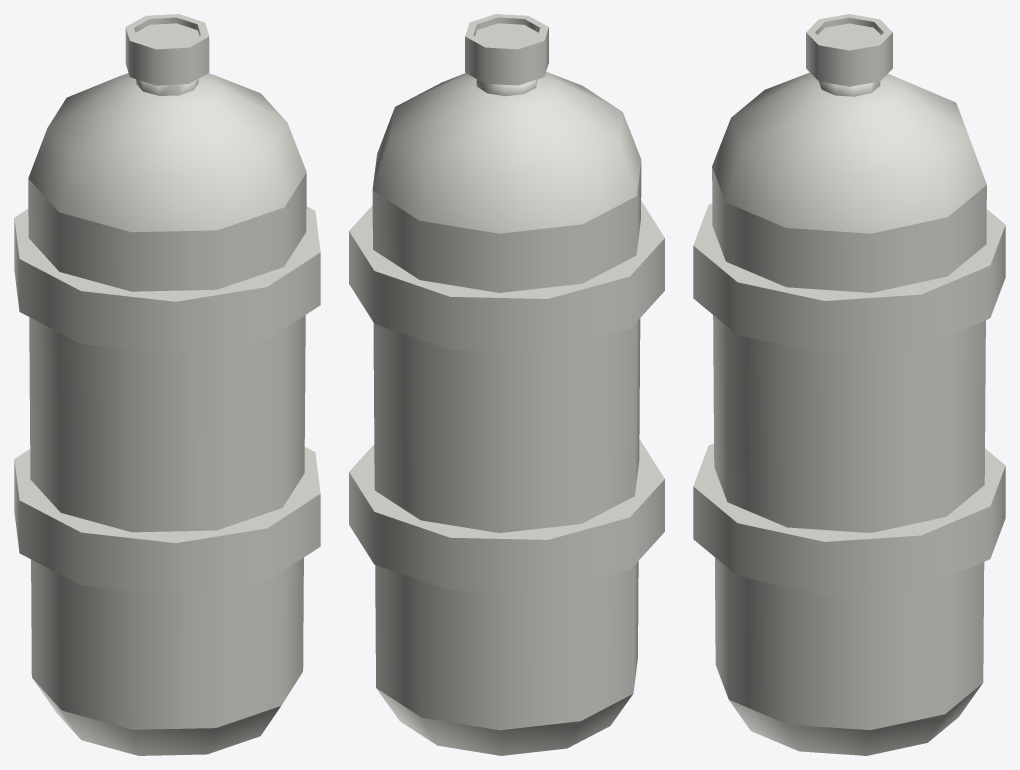
The model's file is Tank new.glb.
The picture shows the model from 3 angles, left to right: view 1: azimuth 30°, elevation 25°; view 2: azimuth 150°, elevation 25°; view 3: azimuth 270°, elevation 25°; orthographic projection.
Visible parts, largest first — view 1: node_id36, node_id34; view 2: node_id36, node_id34; view 3: node_id36, node_id34.
Boxes of the visible parts, x1,y1,x2,y2 form: node_id36: (28,14,306,755); node_id34: (14,206,320,596); node_id36: (372,14,641,755); node_id34: (349,200,664,592); node_id36: (712,14,986,755); node_id34: (693,203,1005,594).
Bounding box in the file's own units: 0.2073 × 0.512 × 0.2073.
Materials: 2 (2 with a texture image).
